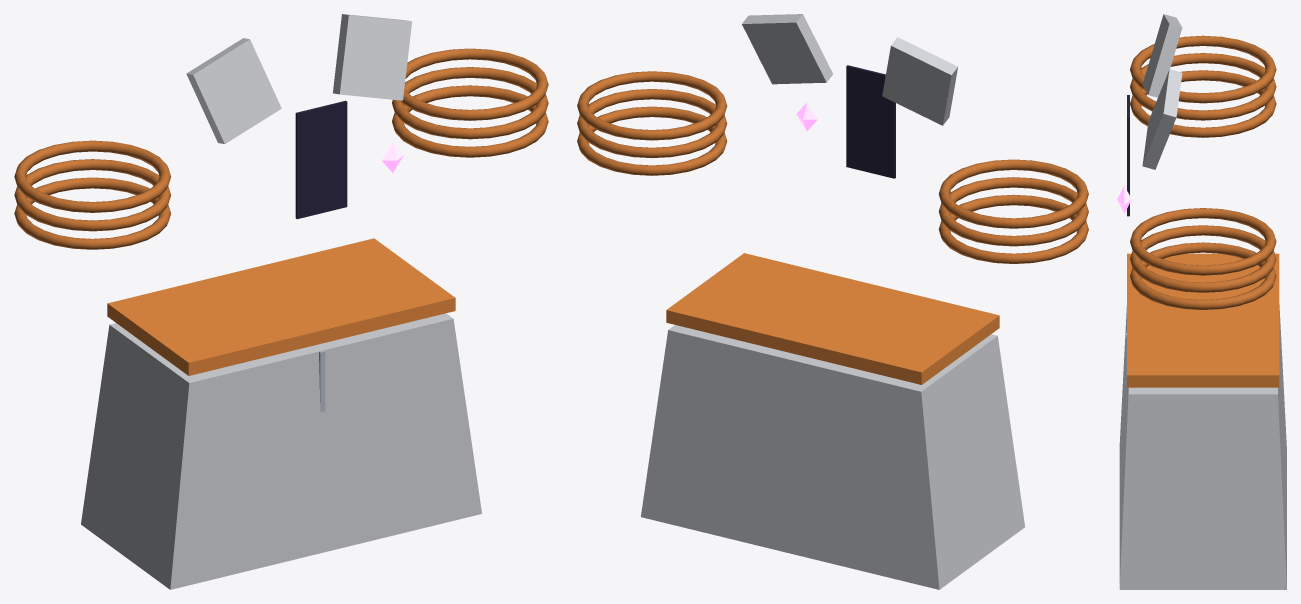
File: eqf_eqgw3.glb
The picture shows the model from 3 angles, left to right: view 1: azimuth 30°, elevation 25°; view 2: azimuth 150°, elevation 25°; view 3: azimuth 270°, elevation 25°; orthographic projection. The views are drawn at different scales.
Bounding box in the file's own units: 4.08 × 3.84 × 1.25.
